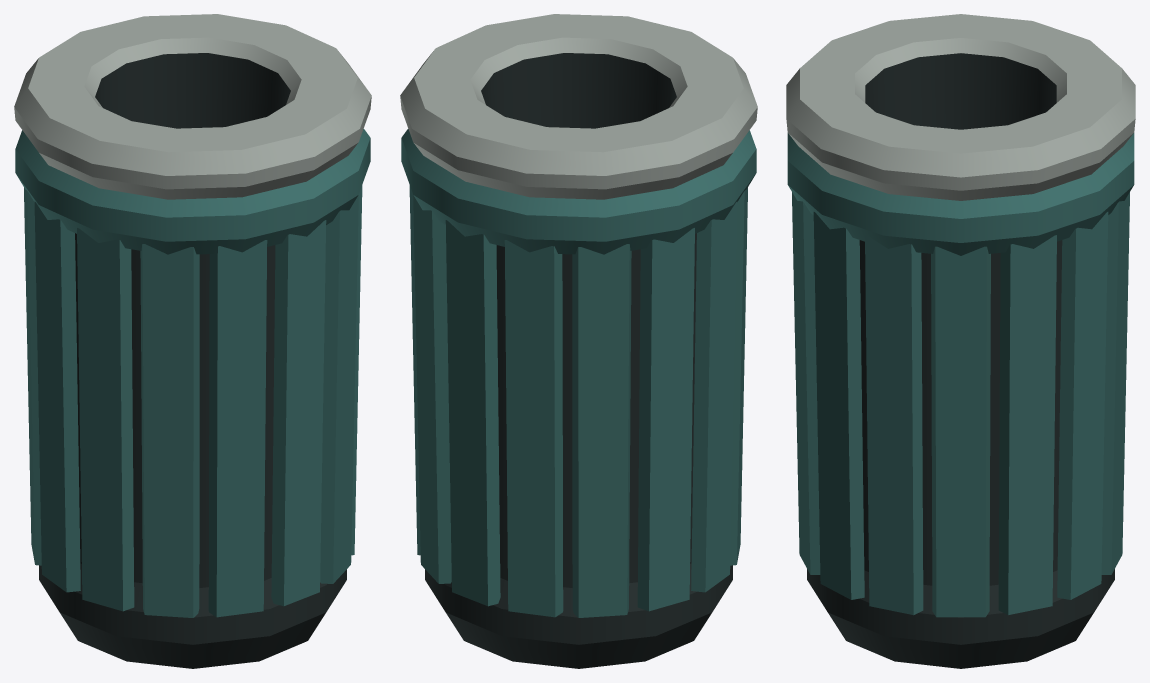
The model's file is bin.glb.
3 renders of one model, left to right at view 1: azimuth 30°, elevation 25°; view 2: azimuth 150°, elevation 25°; view 3: azimuth 270°, elevation 25°, orthographic.
Bounding box in the file's own units: 0.54 × 0.88 × 0.5264.
